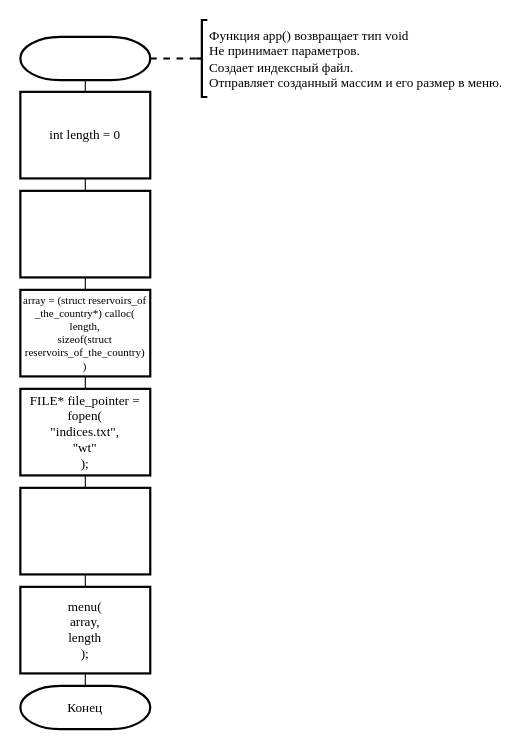
This 521x749 diagram has some shape labels left out. Each missing label, with the centre of its shape:
"fclose(file_pointer);" belongs at (85,530).
"struct reservoirs_of _the_country* array" belongs at (85,233).
"void app()" belongs at (85,58).
